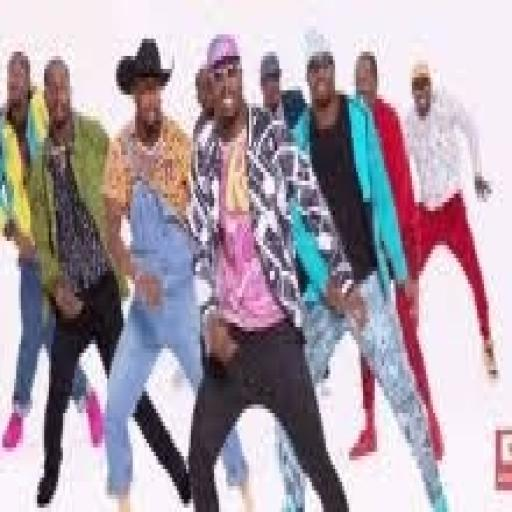dancing: (20, 50, 490, 512), (158, 13, 347, 461)
